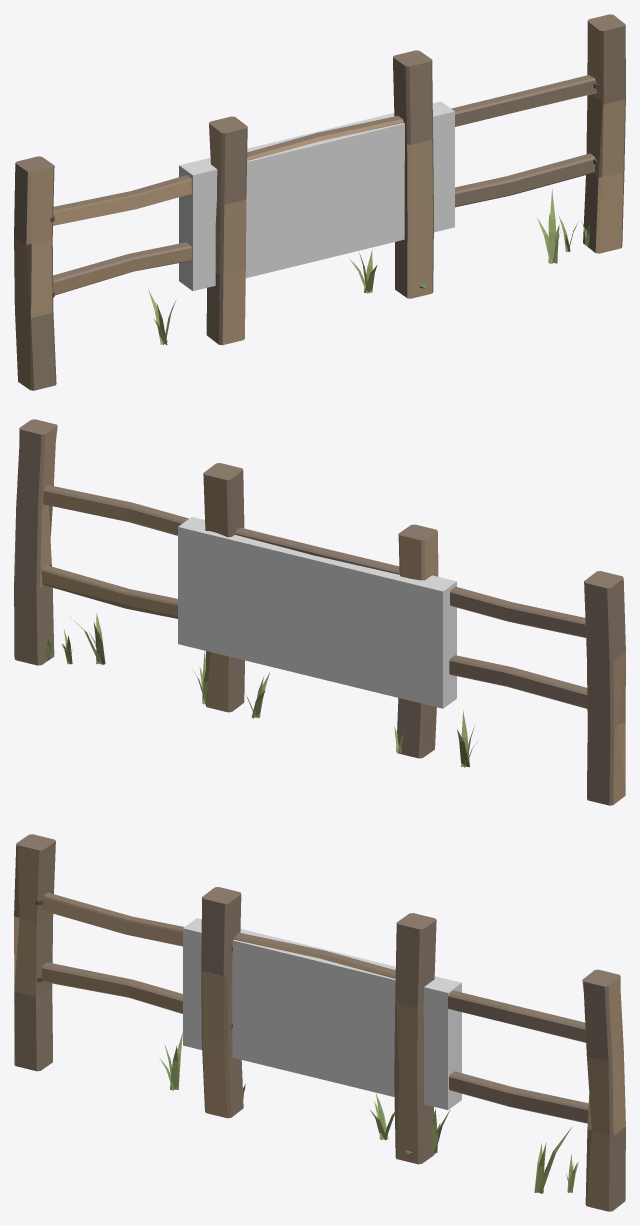
The model's file is wood_fence.glb.
3 renders of one model, top to bottom at view 1: azimuth 30°, elevation 25°; view 2: azimuth 150°, elevation 25°; view 3: azimuth 330°, elevation 25°, orthographic.
Visible parts, largest first — view 1: Fn_Wood, COL_wood_fence; view 2: Fn_Wood, COL_wood_fence; view 3: Fn_Wood, COL_wood_fence.
Boxes of the visible parts, bbox=[...] form: Fn_Wood: bbox=[14, 14, 625, 390]; COL_wood_fence: bbox=[179, 101, 454, 290]; Fn_Wood: bbox=[14, 419, 625, 805]; COL_wood_fence: bbox=[178, 517, 456, 708]; Fn_Wood: bbox=[14, 834, 625, 1211]; COL_wood_fence: bbox=[183, 918, 461, 1109].
Size of the model in its own units: 2.95 by 1.1 by 0.2676.
